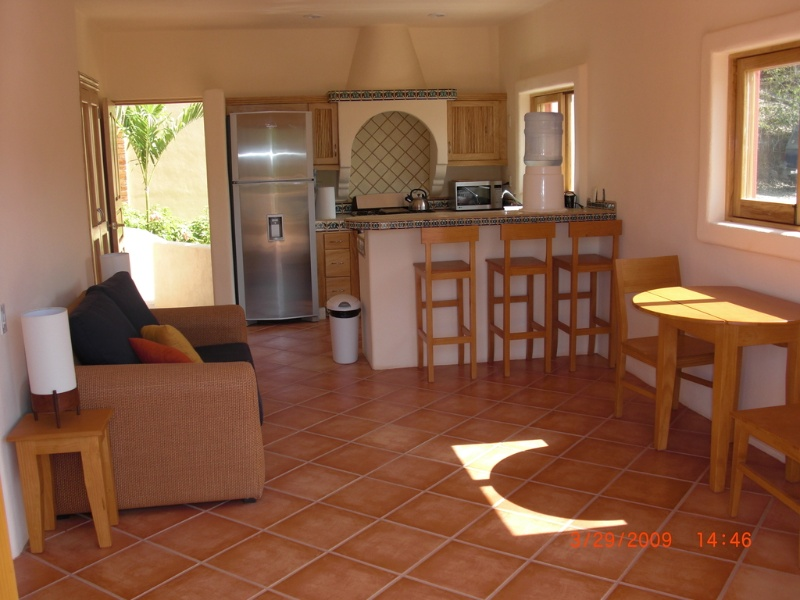chair: (617, 251, 700, 434), (404, 220, 482, 381), (489, 219, 559, 377), (563, 216, 618, 373)
couch: (63, 264, 270, 496)
refrigerator: (226, 109, 331, 321)
